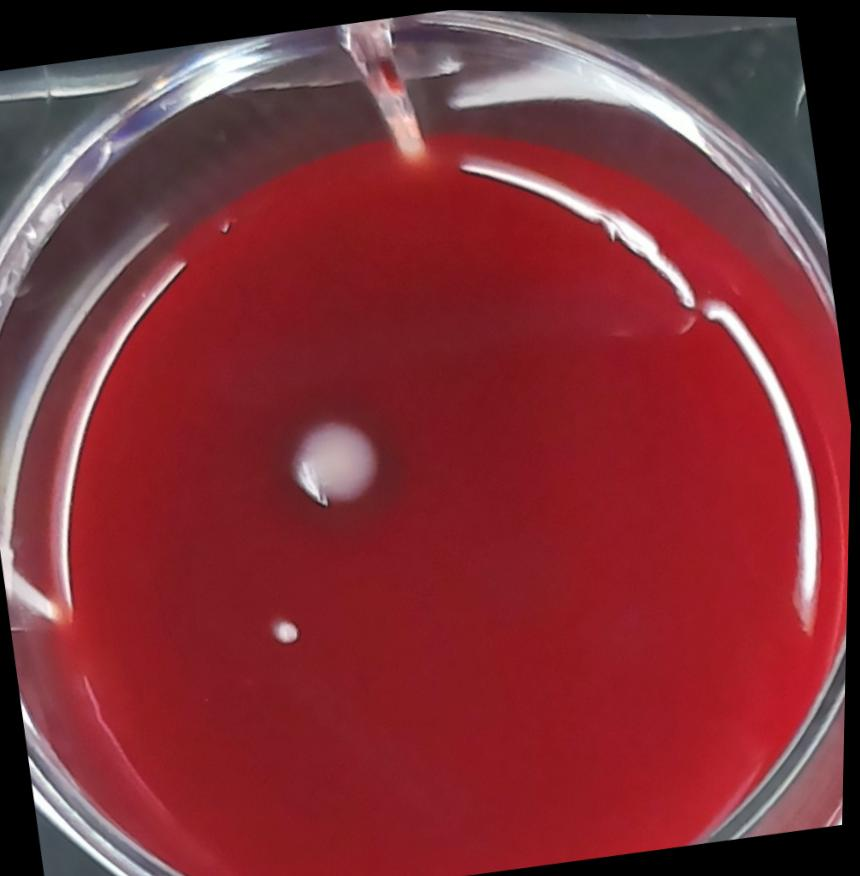staphylo-: (271, 392, 409, 521)
